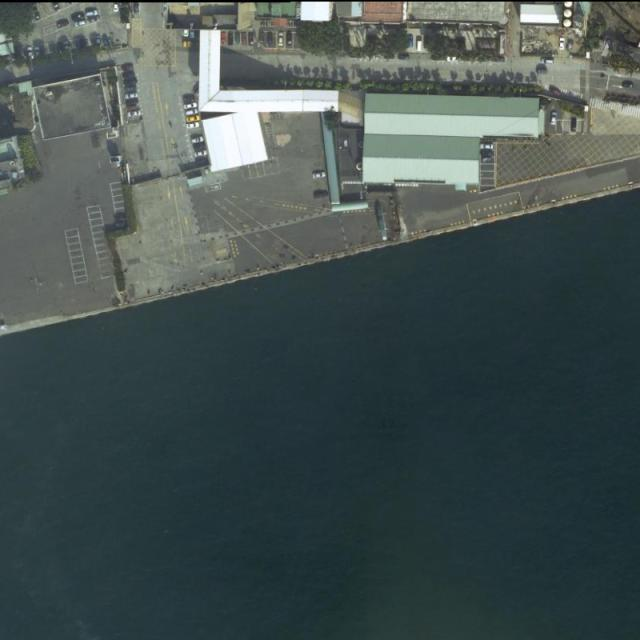vehicle: (54, 18, 70, 29), (550, 110, 558, 128), (311, 171, 328, 179), (120, 62, 135, 71), (558, 37, 567, 52), (26, 46, 34, 62), (184, 108, 200, 116), (125, 98, 141, 106), (314, 190, 330, 198), (567, 38, 575, 54), (183, 102, 198, 110), (187, 122, 202, 130), (187, 114, 200, 123), (191, 136, 205, 144), (126, 111, 142, 118), (570, 118, 578, 132), (33, 6, 41, 20), (549, 87, 561, 96), (479, 143, 494, 150), (74, 20, 87, 28), (122, 70, 135, 78), (621, 81, 634, 89), (447, 55, 460, 63), (72, 13, 85, 21), (88, 15, 99, 24), (258, 30, 265, 44), (540, 58, 554, 65), (195, 150, 207, 158), (123, 79, 136, 86), (278, 32, 284, 47), (84, 10, 98, 16), (124, 86, 136, 93), (267, 30, 273, 44), (286, 30, 291, 46), (220, 31, 226, 44), (248, 31, 254, 44), (229, 31, 234, 46), (398, 54, 410, 60), (481, 150, 493, 156), (481, 158, 493, 164), (125, 94, 139, 99), (537, 70, 550, 75), (241, 31, 246, 43), (34, 46, 40, 56), (114, 3, 120, 13), (183, 28, 189, 37), (235, 31, 239, 43)
